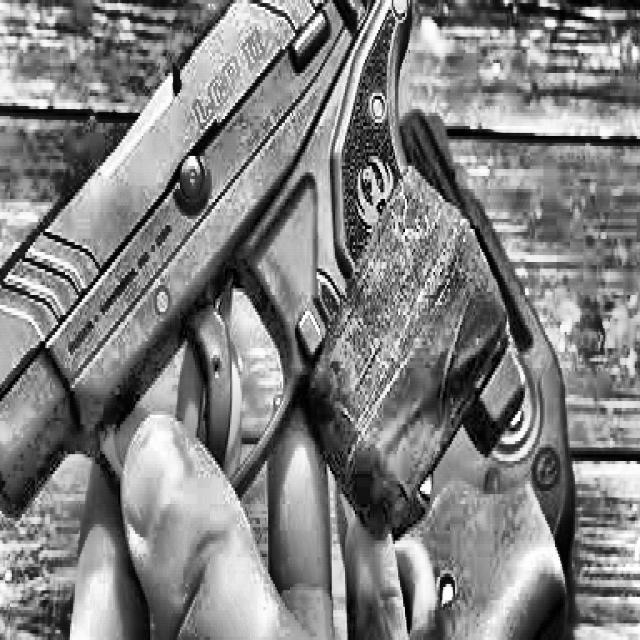Ruger: (0, 0, 575, 640)
